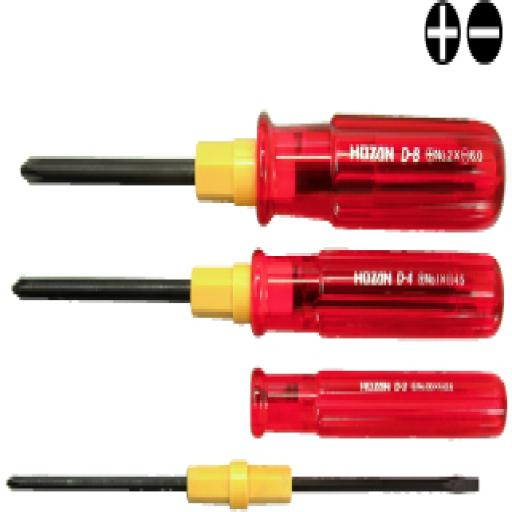screwdriver: (20, 114, 504, 230), (10, 251, 504, 338)
